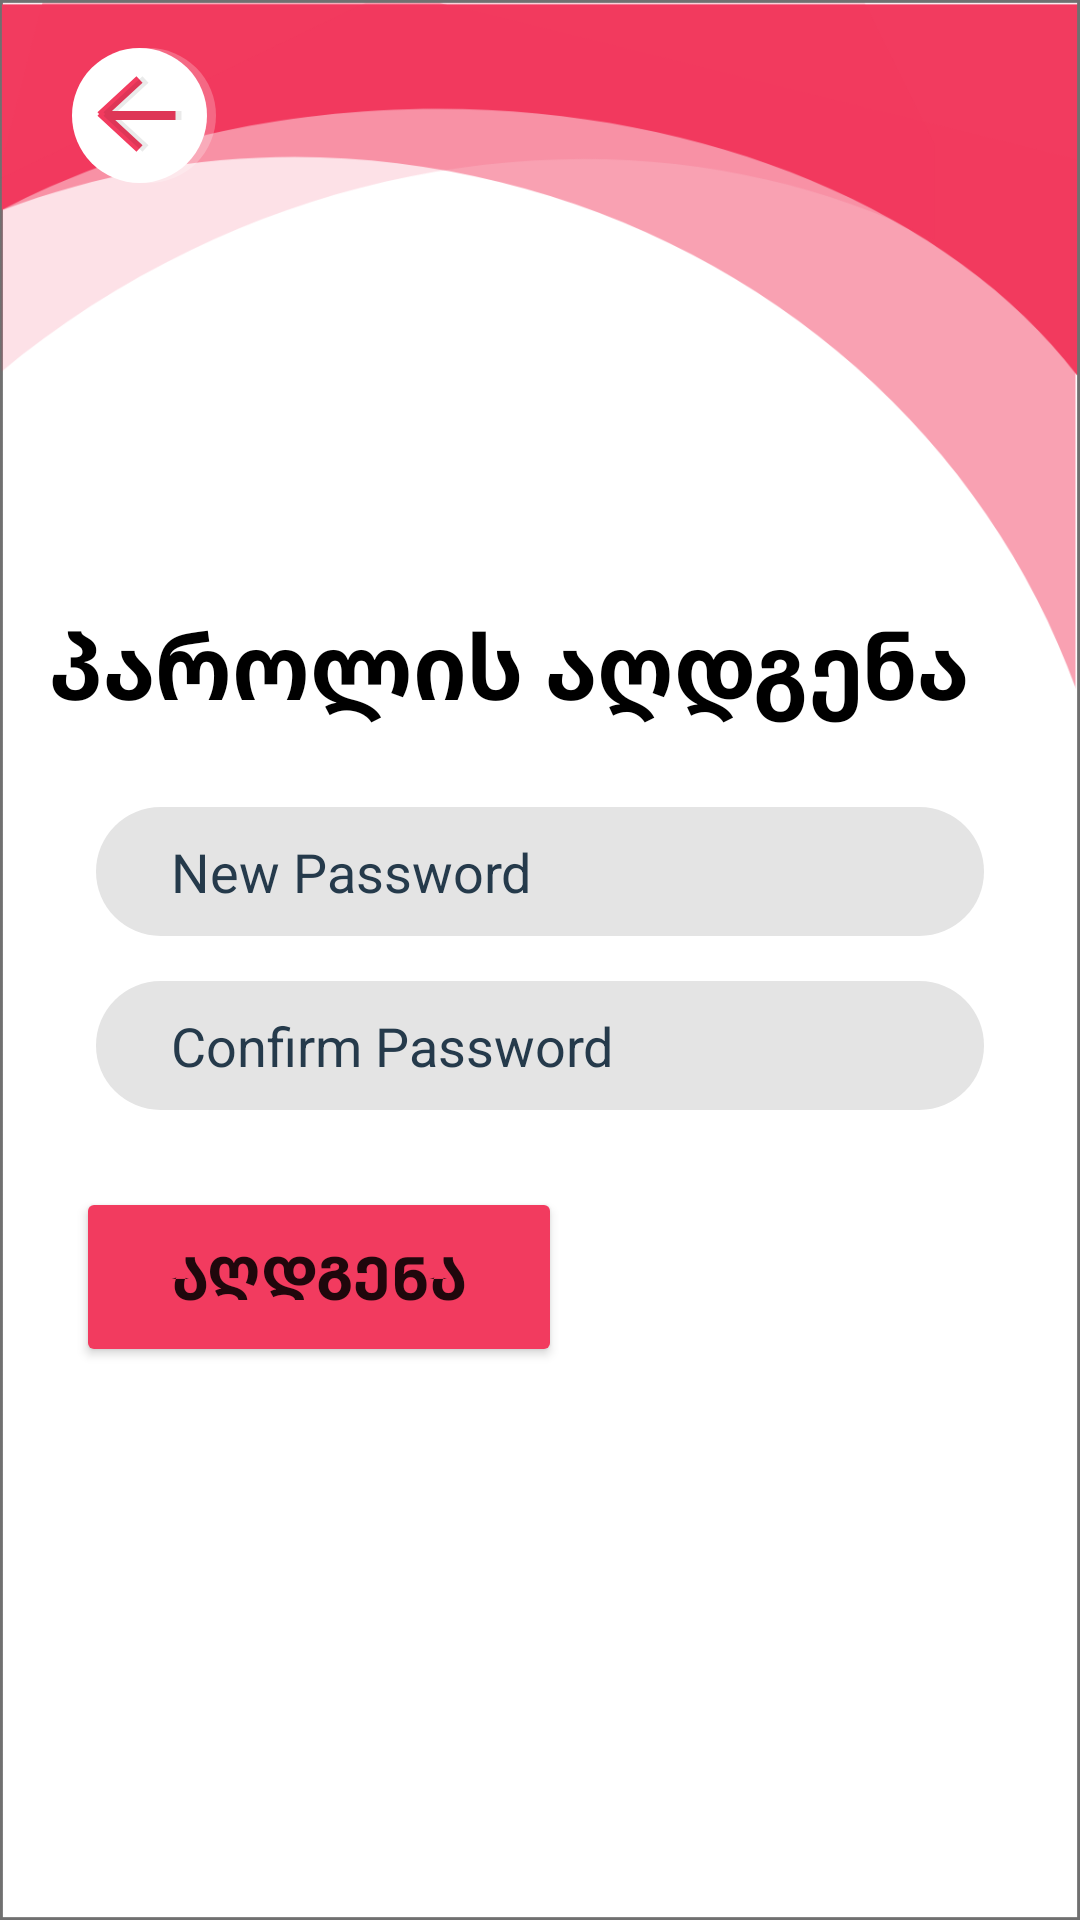

Named icons in this screenshot (1080px×1920px) and their bounding boxes, {"x1": x1, "y1": y1, "x2": x2, "y2": y2}:
gotobackbutton: {"x1": 72, "y1": 48, "x2": 216, "y2": 183}
